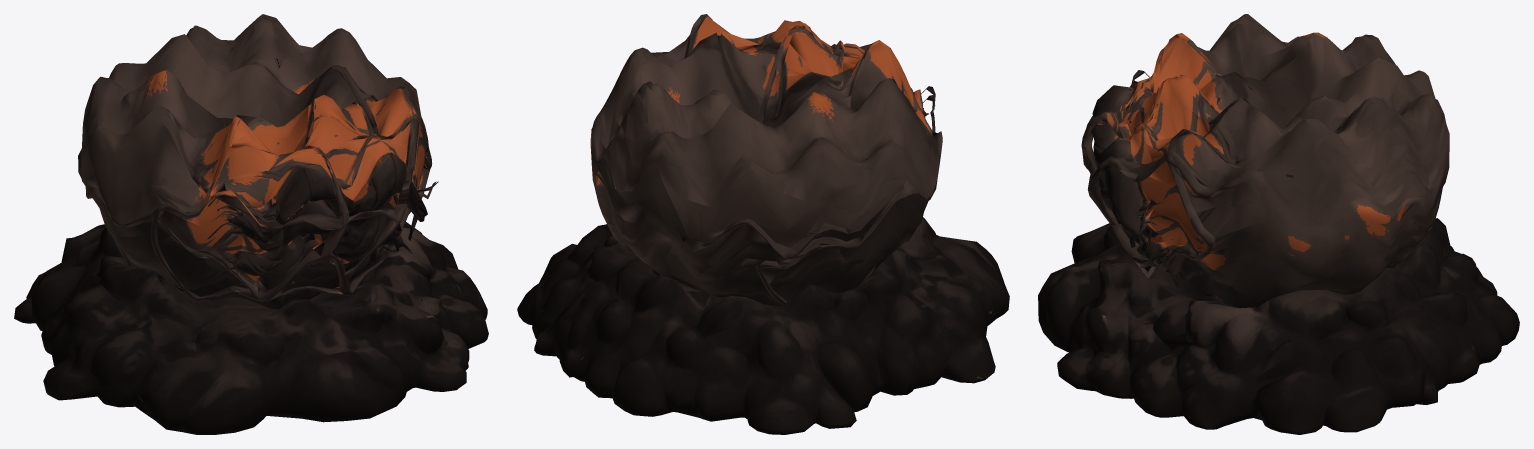
The model's file is SM_HiveEggSac_Burned.fbx.
The picture shows the model from 3 angles, left to right: view 1: azimuth 30°, elevation 25°; view 2: azimuth 150°, elevation 25°; view 3: azimuth 270°, elevation 25°; orthographic projection.
Parts seen in each view (by area): view 1: SM_HiveEggSac_Burned; view 2: SM_HiveEggSac_Burned; view 3: SM_HiveEggSac_Burned.
Boxes of the visible parts, box(x1,y1,x2,y2) form: SM_HiveEggSac_Burned: box(14, 14, 488, 434); SM_HiveEggSac_Burned: box(517, 14, 1009, 434); SM_HiveEggSac_Burned: box(1038, 14, 1519, 434).
Bounding box in the file's own units: 2 × 1.22 × 1.96.
